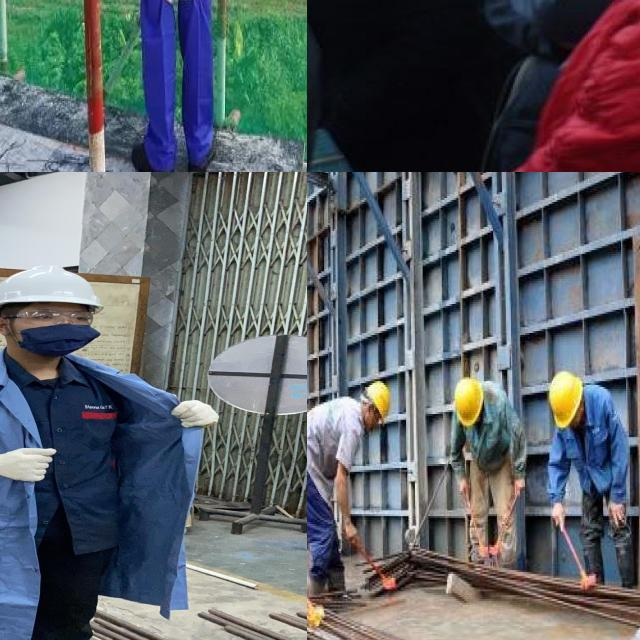face_mask: (11, 304, 104, 352)
glasses: (0, 308, 100, 328)
hand_glove: (0, 439, 60, 487), (168, 395, 225, 431)
hand_noglove: (341, 517, 362, 546), (507, 471, 530, 497), (548, 499, 568, 527), (605, 497, 626, 523), (452, 476, 473, 499)
head_helmet: (0, 262, 111, 313), (544, 367, 582, 429), (451, 375, 486, 425), (364, 378, 394, 427)
person: (0, 256, 229, 640), (307, 0, 491, 172), (532, 354, 640, 599), (441, 369, 538, 584), (307, 374, 387, 611)
shoes: (321, 558, 350, 605)
